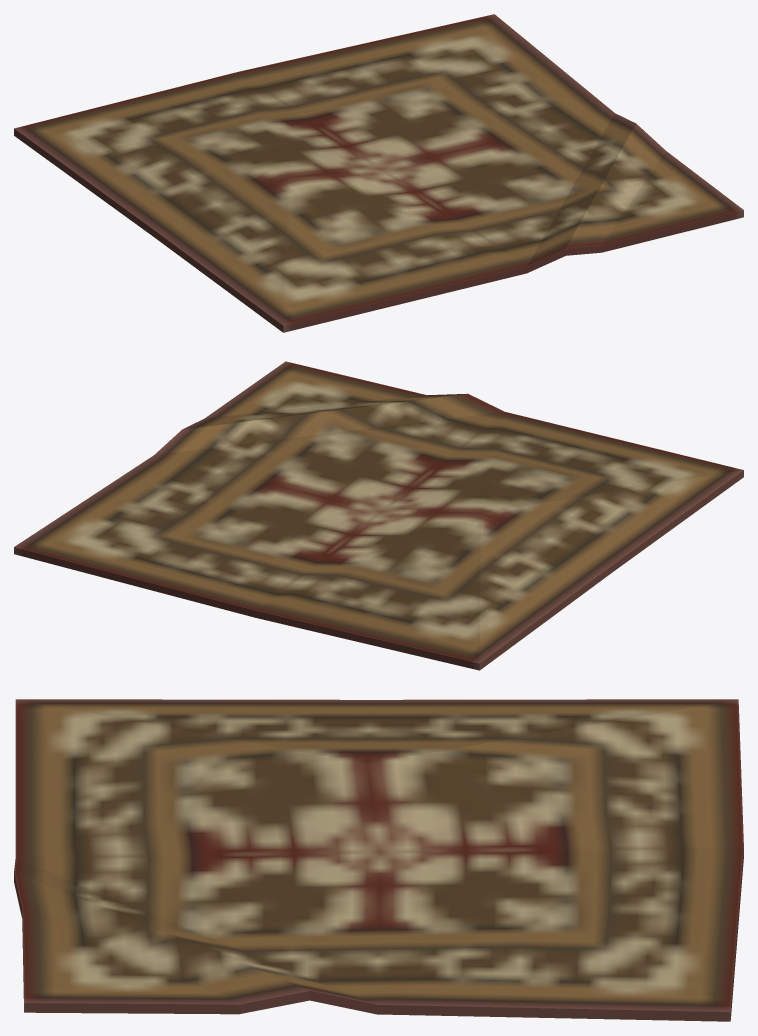
File: SM_Prop_Rug_24.fbx
3 renders of one model, top to bottom at view 1: azimuth 30°, elevation 25°; view 2: azimuth 150°, elevation 25°; view 3: azimuth 270°, elevation 25°, orthographic. The views are drawn at different scales.
Parts seen in each view (by area): view 1: SM_Prop_Rug_24; view 2: SM_Prop_Rug_24; view 3: SM_Prop_Rug_24.
Boxes of the visible parts, x1,y1,x2,y2 form: SM_Prop_Rug_24: (14, 14, 743, 332); SM_Prop_Rug_24: (14, 361, 743, 670); SM_Prop_Rug_24: (14, 699, 743, 1021).
Bounding box in the file's own units: 232 × 11.99 × 228.
